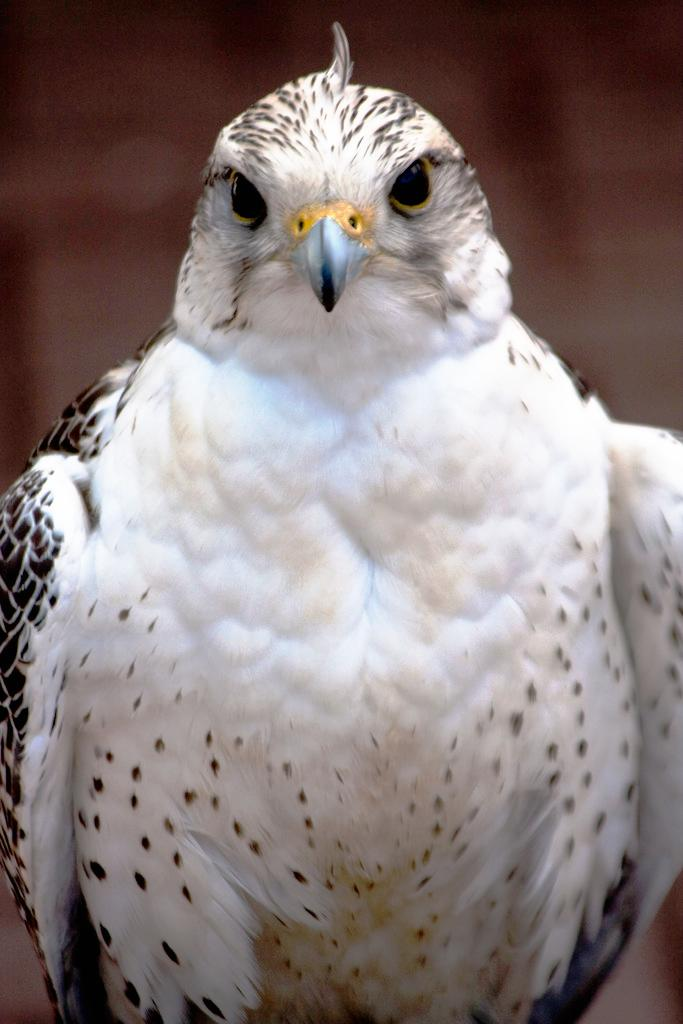Owl: (0, 28, 682, 1024)
